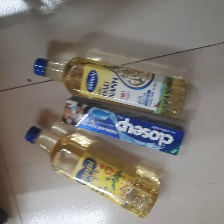CloseUp Tuyet: (60, 96, 186, 157)
Happy Soya: (22, 126, 161, 218)
Simply: (29, 55, 192, 121)
